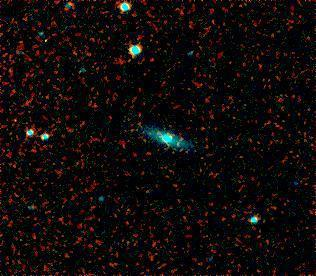star: (163, 129, 193, 159)
